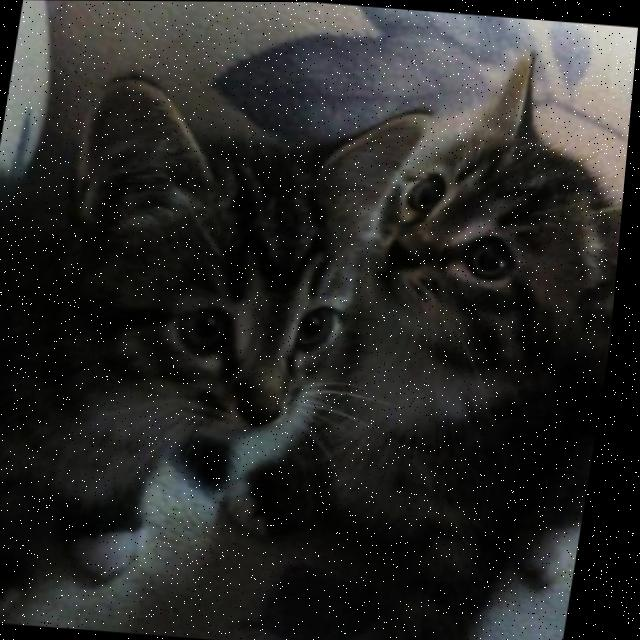Cats: (0, 54, 438, 640), (313, 52, 637, 640)
